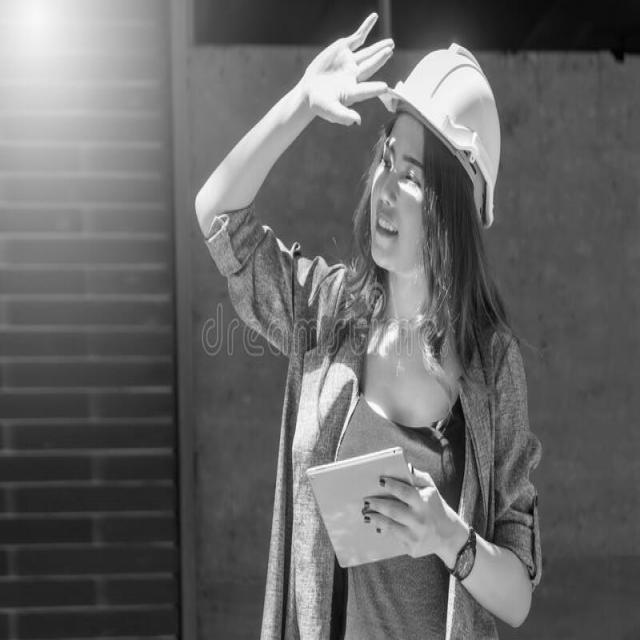safety_helmet: (386, 43, 502, 227)
